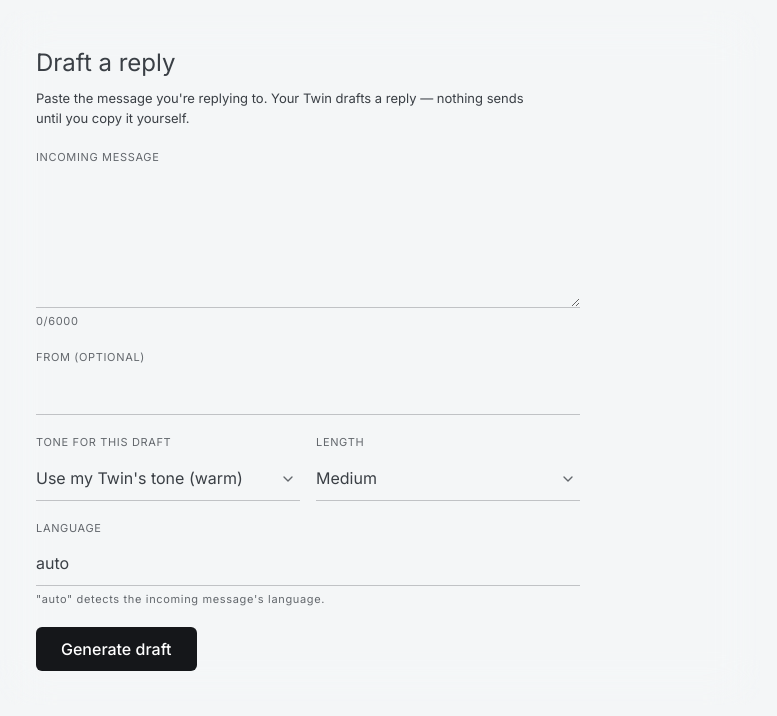
Test case: TwinDraftWorkspace — draft review and the draft-only label › Regenerate re-POSTs the same request and replaces the draft with the new response
The image size is (777, 716).
Type "Can you send the update today?" into the text box labelled "Incoming message" at {"x": 308, "y": 240}, box [36,171,580,308]
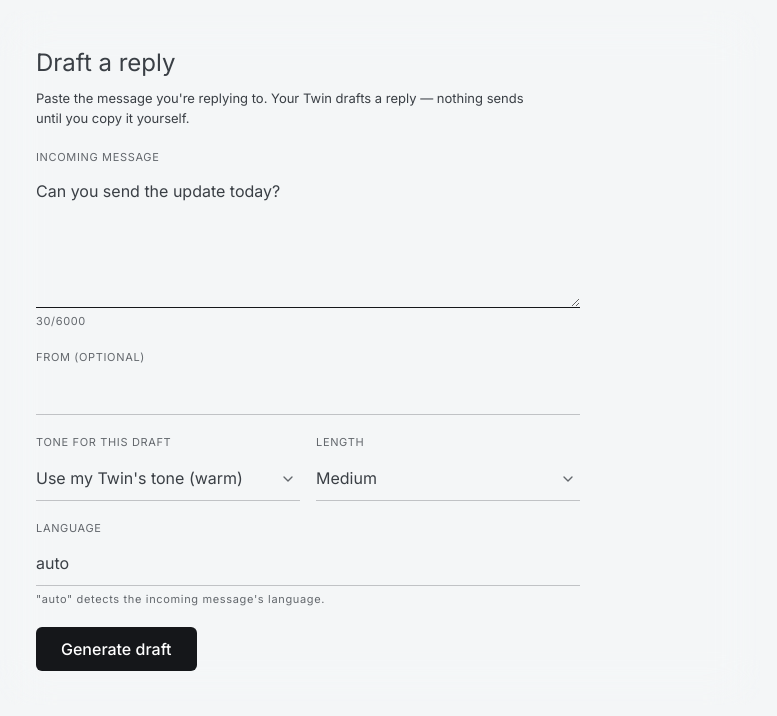
Click the button "Generate draft" at {"x": 116, "y": 649}, box [36,627,197,671]
(page scrolled)
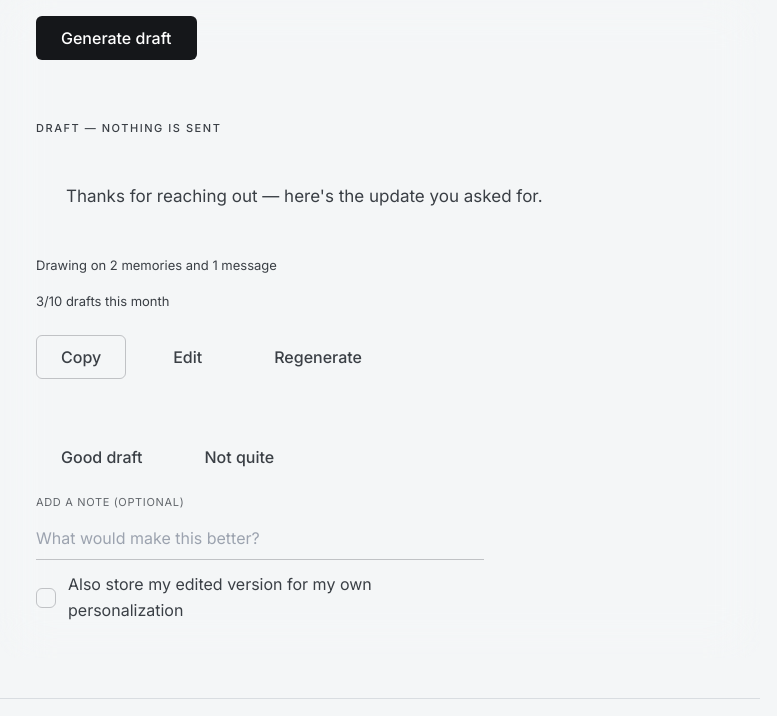
Expected: the text "Thanks for reaching out — here's the update you asked for." is shown, [66,186,543,206]
Click the button "Regenerate" at {"x": 318, "y": 357}, box [249,335,387,379]
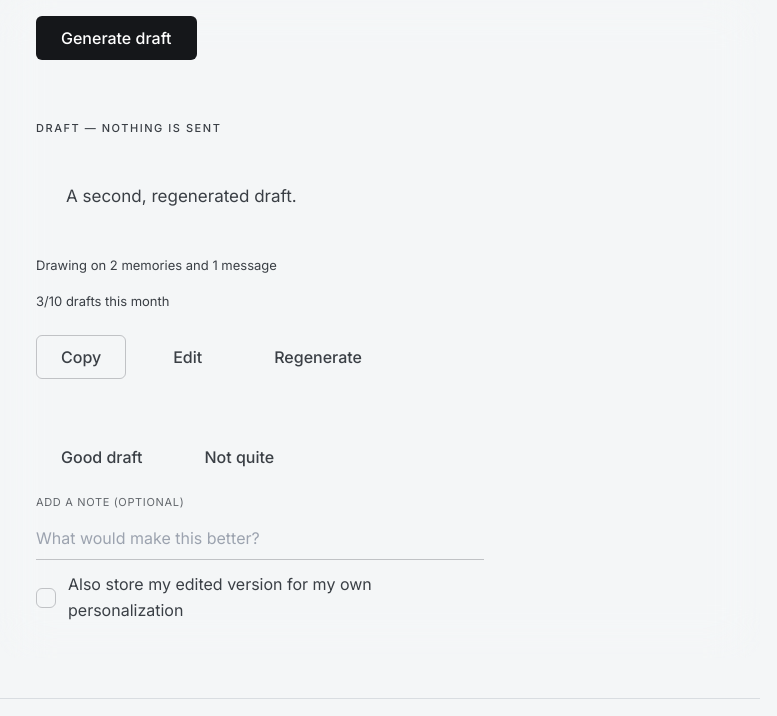
Expected: the text "A second, regenerated draft." is shown, [66,186,297,206]
